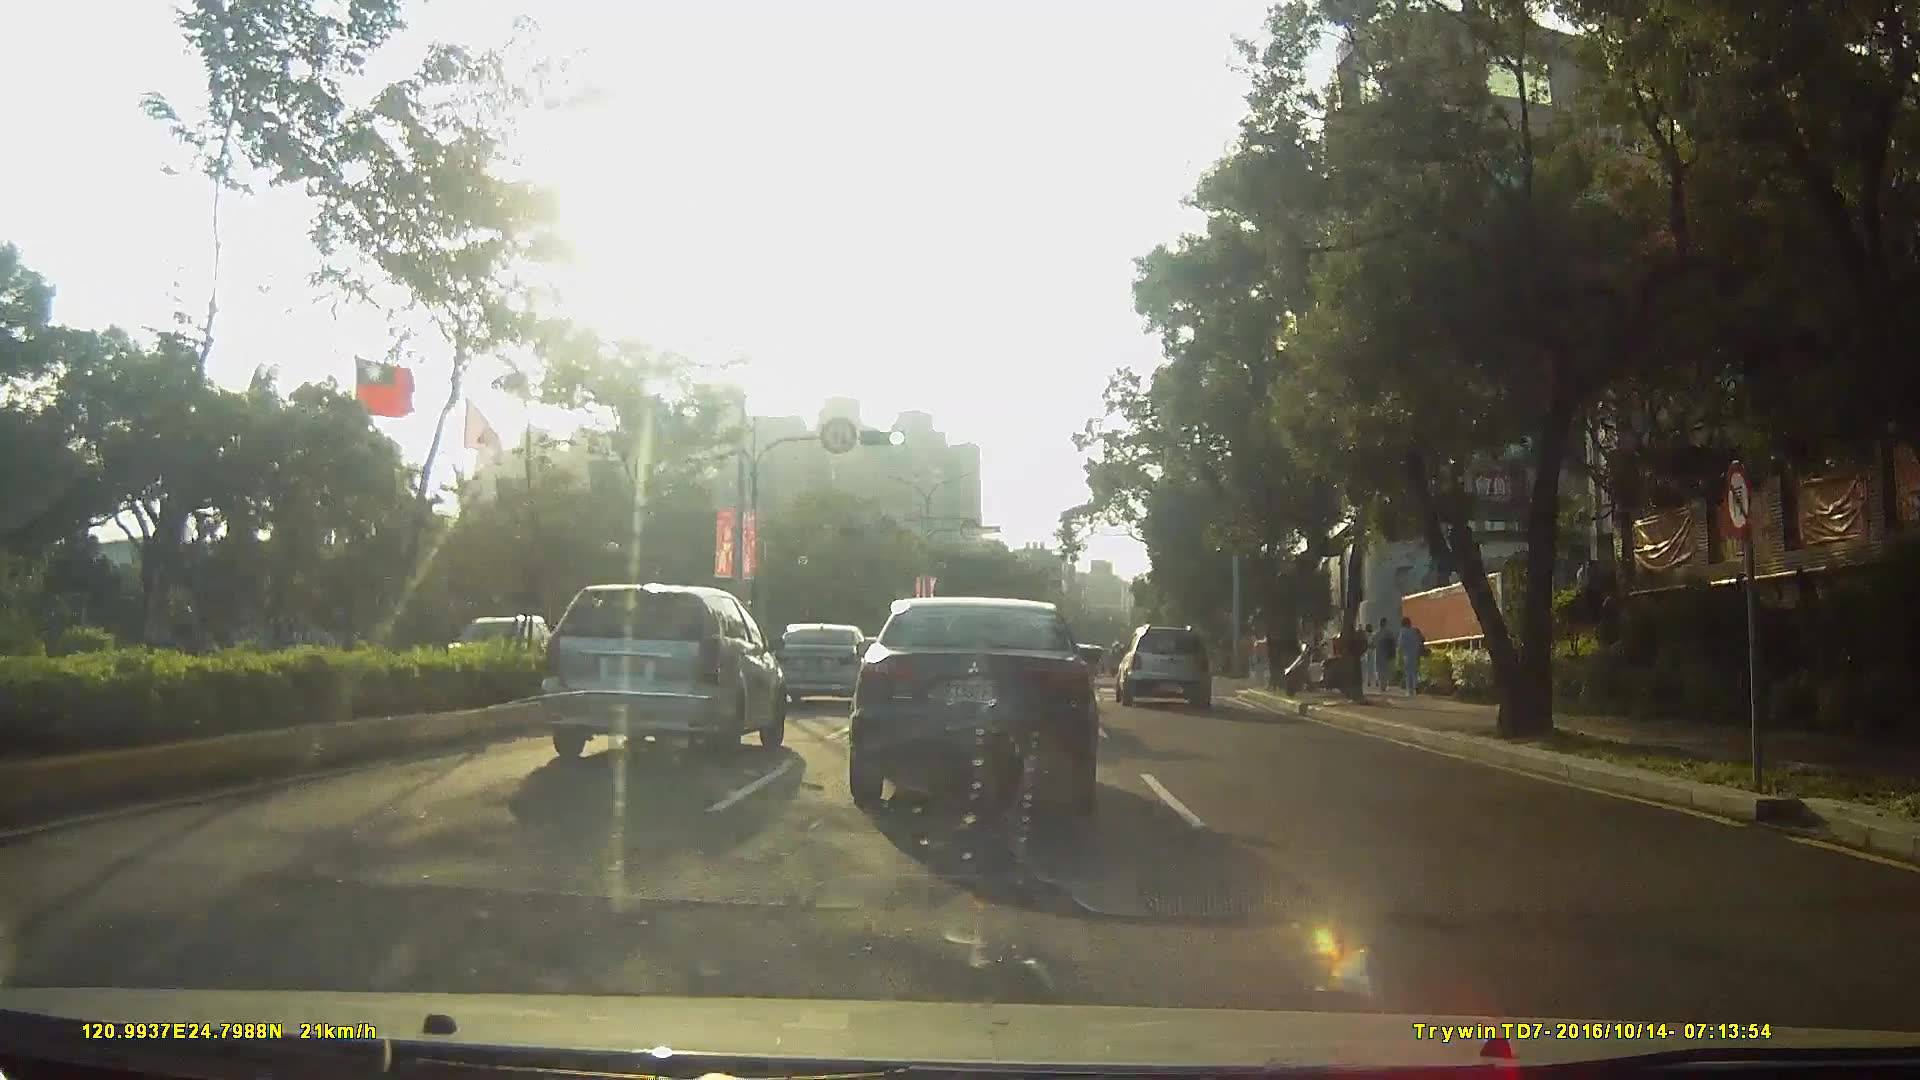pedestrian: (1397, 616, 1429, 701), (1372, 617, 1398, 697)
vehicle: (844, 593, 1096, 814), (534, 581, 786, 762), (1112, 622, 1221, 710), (774, 619, 877, 710)
